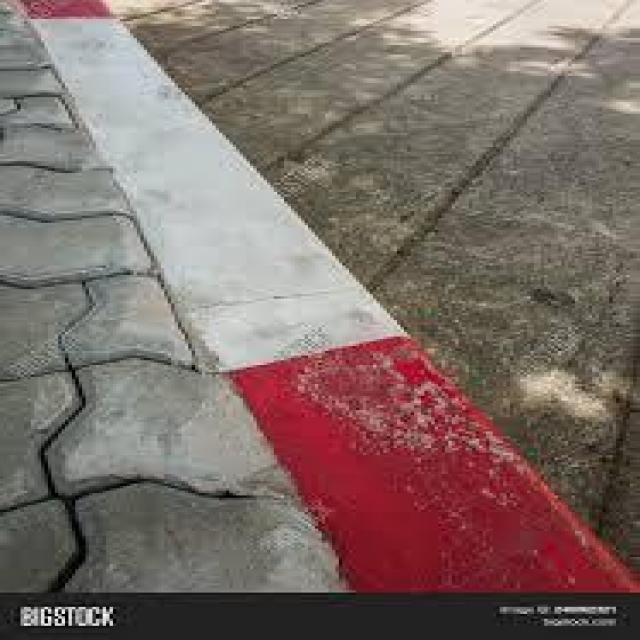curb: (206, 310, 607, 590), (102, 154, 339, 347), (22, 4, 177, 140)
